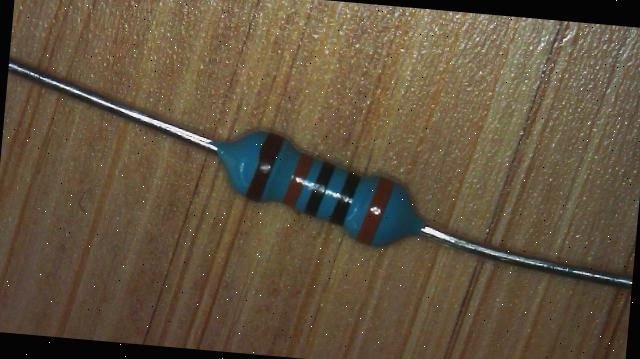black: (304, 159, 336, 217), (330, 170, 361, 226)
brown: (246, 130, 285, 202)
orange: (356, 175, 394, 247), (282, 152, 314, 208)
resistor: (186, 90, 459, 278)
